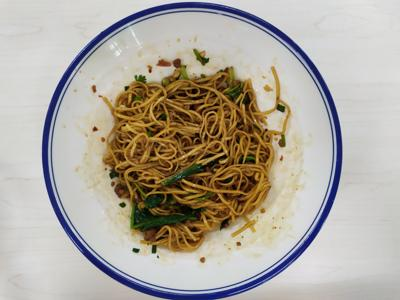cm: (92, 47, 281, 264)
